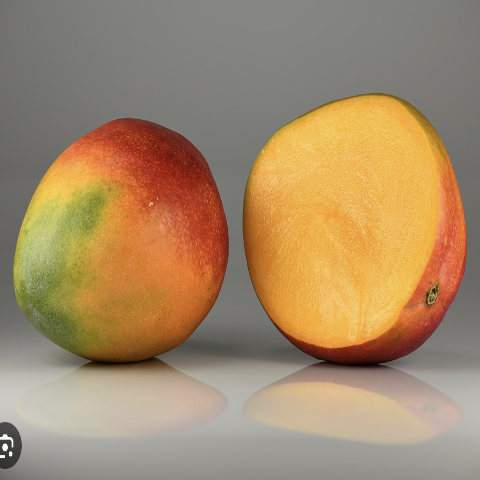mango: (239, 80, 472, 394), (8, 114, 234, 389)
